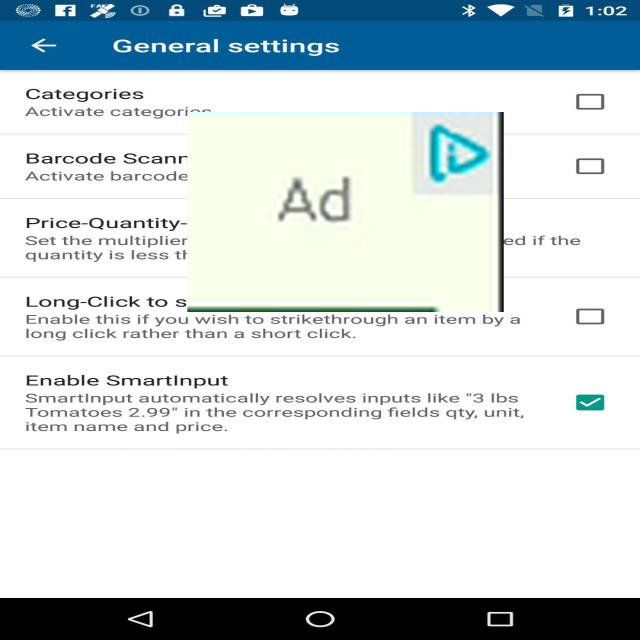sneaking: (187, 112, 504, 312)
